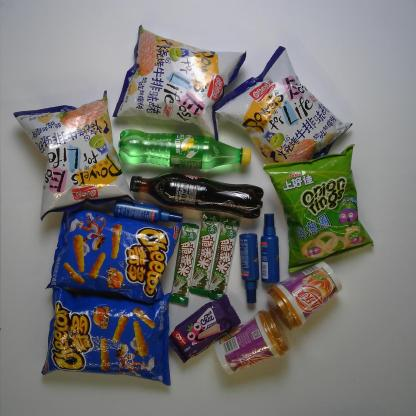Chocolate: (167, 219, 201, 311), (188, 210, 222, 300), (207, 216, 240, 300)
Dessert: (166, 294, 244, 365)
Drink: (125, 170, 266, 222), (115, 126, 254, 174)
Instant Drink: (264, 259, 346, 334), (214, 306, 292, 377)
Personal Hygiene: (109, 196, 188, 228), (257, 209, 285, 286), (238, 229, 262, 305)
Puffed Food: (210, 43, 354, 166), (9, 88, 138, 223), (110, 22, 250, 144), (259, 142, 378, 276), (42, 200, 185, 304), (40, 288, 176, 389)
